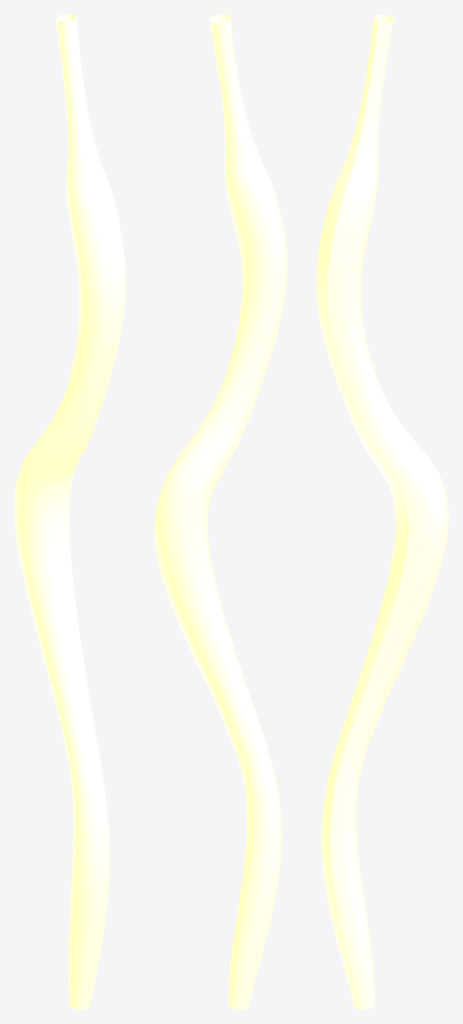
The model's file is strand_b_cairn.glb.
3 views of the same model, side by side, from view 1: azimuth 90°, elevation 25°; view 2: azimuth 150°, elevation 25°; view 3: azimuth 330°, elevation 25° (orthographic).
Size of the model in its own units: 0.8333 by 8.02 by 0.8248.
